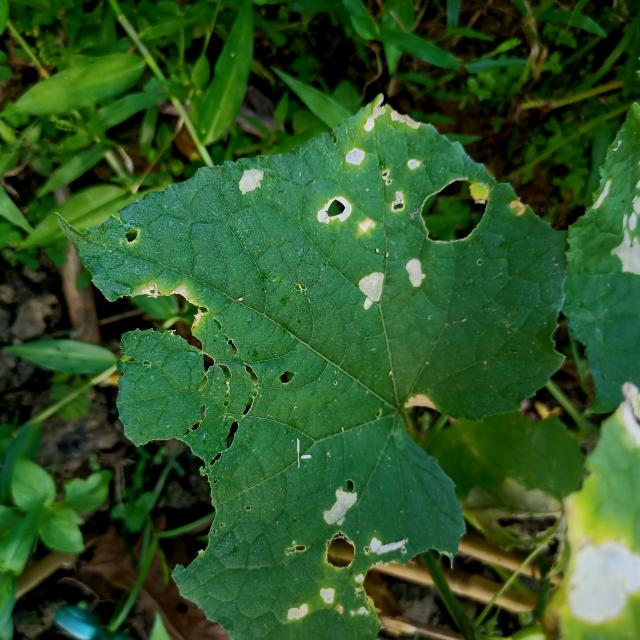disease_cucumber: (232, 101, 426, 242), (272, 477, 411, 621), (352, 247, 432, 316)
